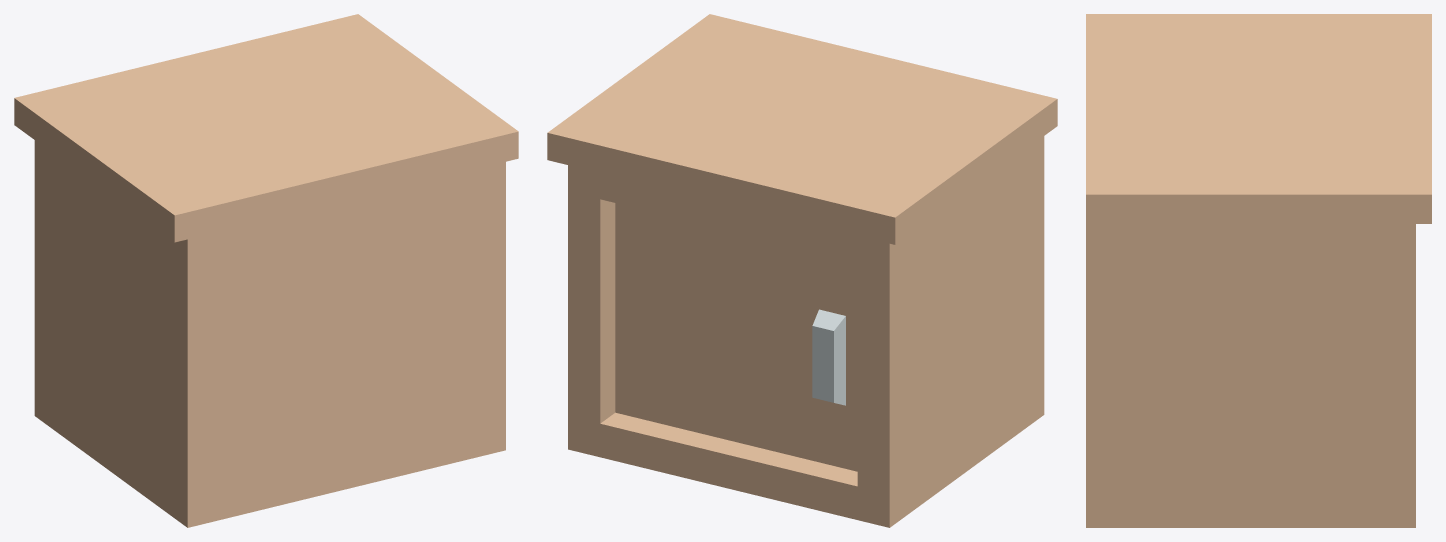
File: cabinetBed.gltf
The picture shows the model from 3 angles, left to right: view 1: azimuth 30°, elevation 25°; view 2: azimuth 150°, elevation 25°; view 3: azimuth 270°, elevation 25°; orthographic projection. The views are drawn at different scales.
Parts seen in each view (by area): view 1: cabinetBed; view 2: cabinetBed, door; view 3: cabinetBed.
Part boxes in pixels (box(x1,y1,x2,y2)): cabinetBed: box(14, 14, 518, 527); cabinetBed: box(547, 14, 1057, 527); door: box(615, 203, 857, 471); cabinetBed: box(1086, 14, 1431, 527).
Bounding box in the file's own units: 2.66 × 2.33 × 2.15.
